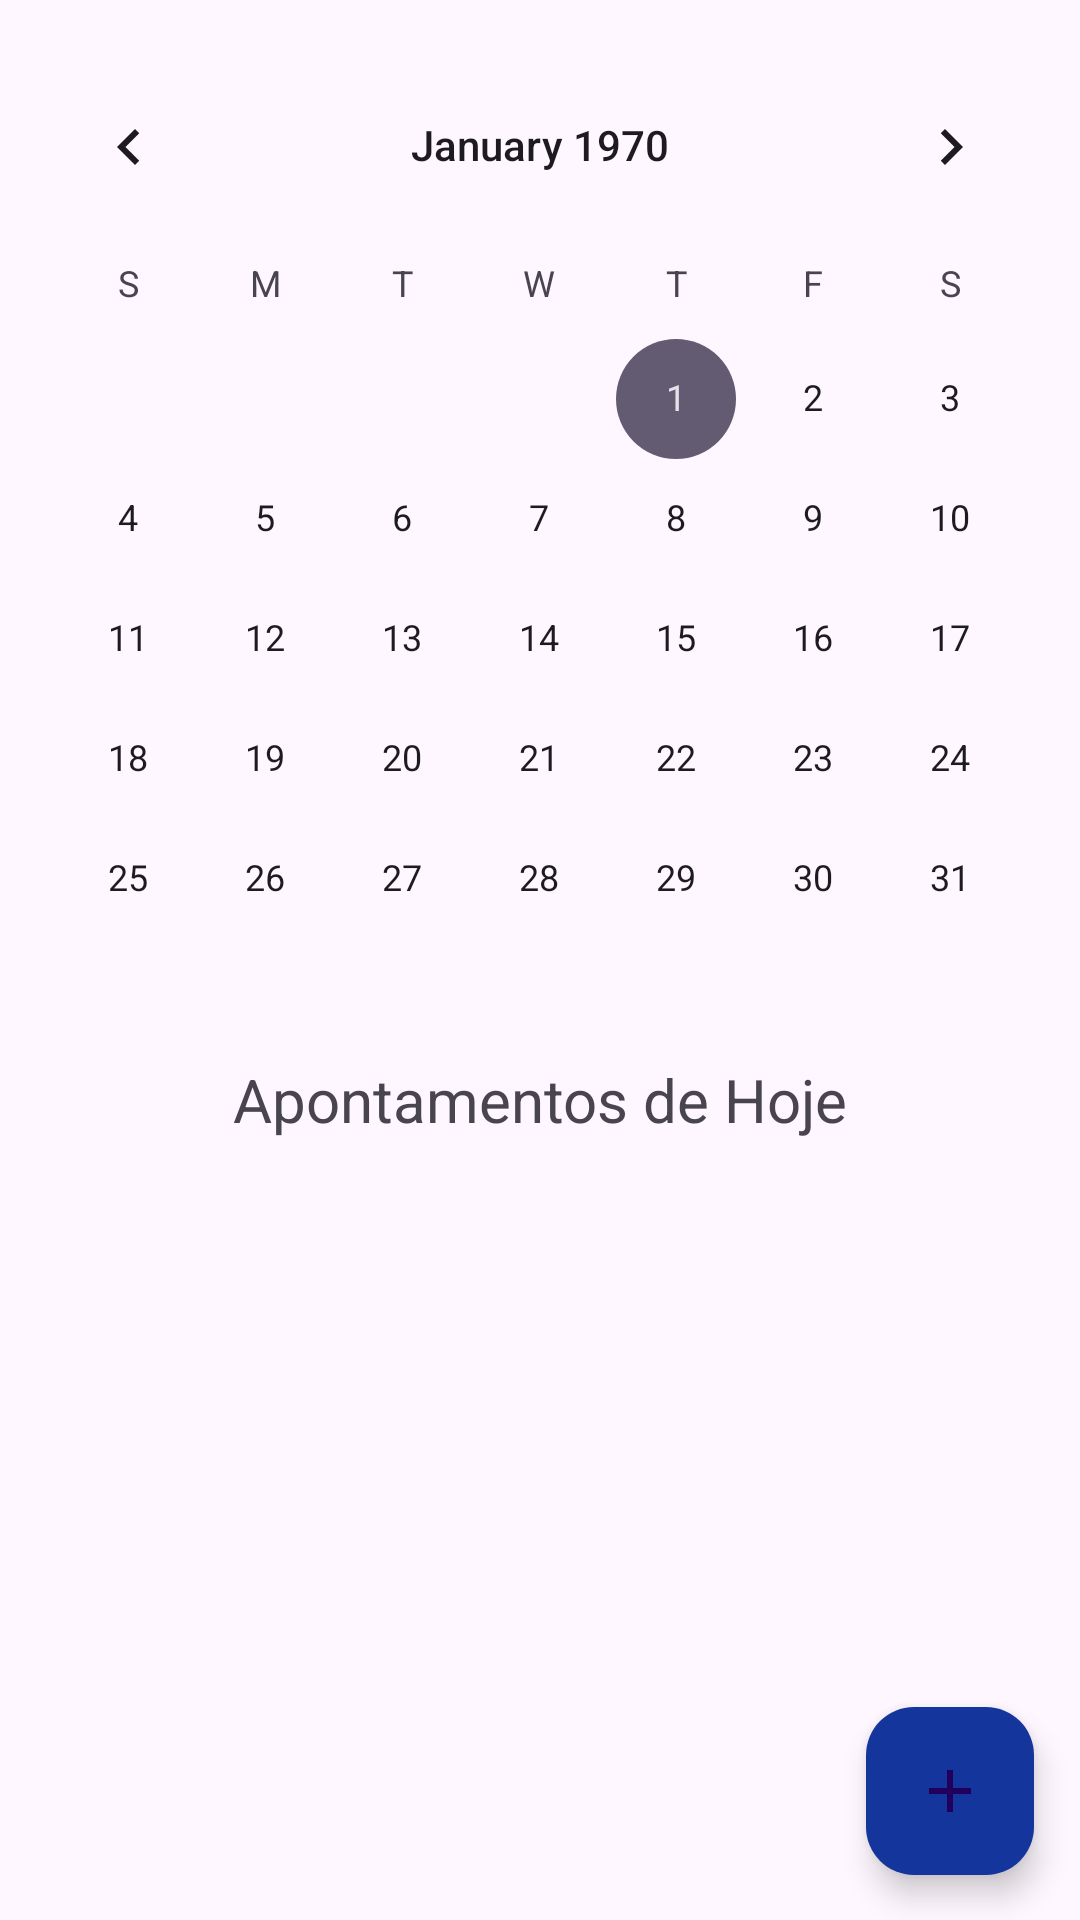

Where icons sit on this 1080px×1920px app screen, as (x1, y1, x2, y2):
Botão para adicionar novo apontamento: (866, 1707, 1034, 1875)
